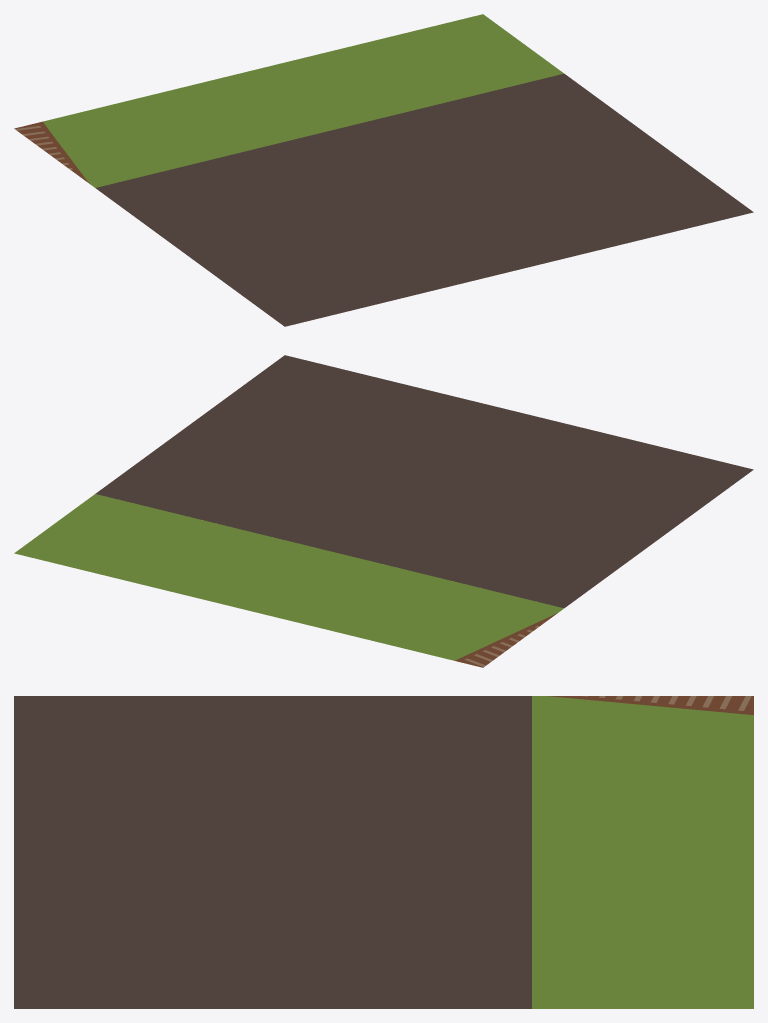
File: crossing-8-2.glb
3 views of the same model, one above another, from view 1: azimuth 30°, elevation 25°; view 2: azimuth 150°, elevation 25°; view 3: azimuth 270°, elevation 25° (orthographic). The views are drawn at different scales.
Parts seen in each view (by area): view 1: crossing-8-2; view 2: crossing-8-2; view 3: crossing-8-2.
Part boxes in pixels (x1,y1,x2,y2): crossing-8-2: [14, 14, 753, 326]; crossing-8-2: [14, 355, 753, 667]; crossing-8-2: [14, 696, 753, 1008].
Size of the model in its own units: 100 by 0.0064 by 100.
